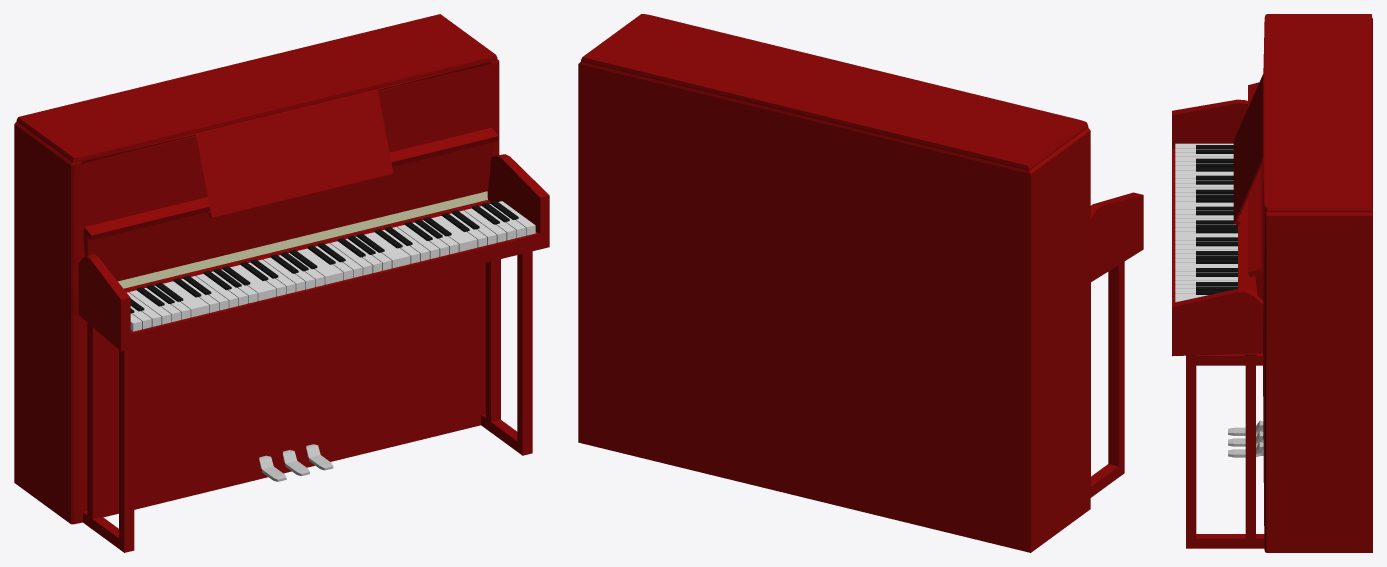
Rendered from Piano3.fbx.
The picture shows the model from 3 angles, left to right: view 1: azimuth 30°, elevation 25°; view 2: azimuth 150°, elevation 25°; view 3: azimuth 270°, elevation 25°; orthographic projection. The views are drawn at different scales.
Visible parts, largest first — view 1: 49keysmidi.029; view 2: 49keysmidi.029; view 3: 49keysmidi.029.
Boxes of the visible parts, <box> form: 49keysmidi.029: <box>14,14,549,552</box>; 49keysmidi.029: <box>578,14,1143,552</box>; 49keysmidi.029: <box>1172,14,1372,552</box>.
Size of the model in its own units: 150 by 122 by 64.74.
